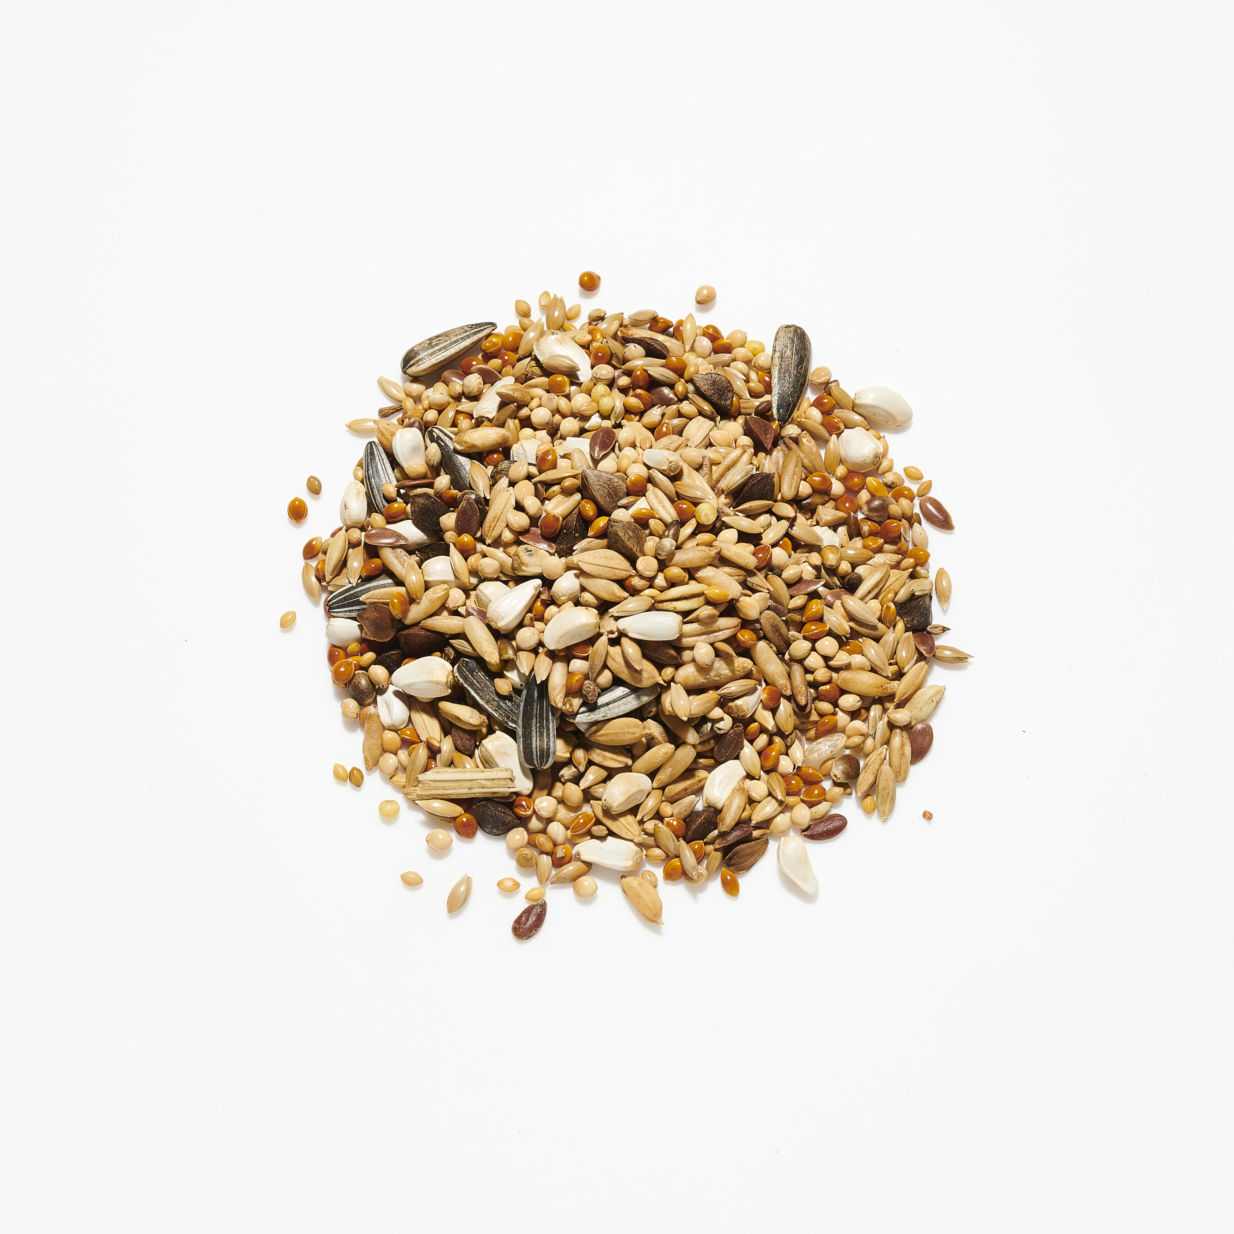seed: (235, 242, 983, 974)
